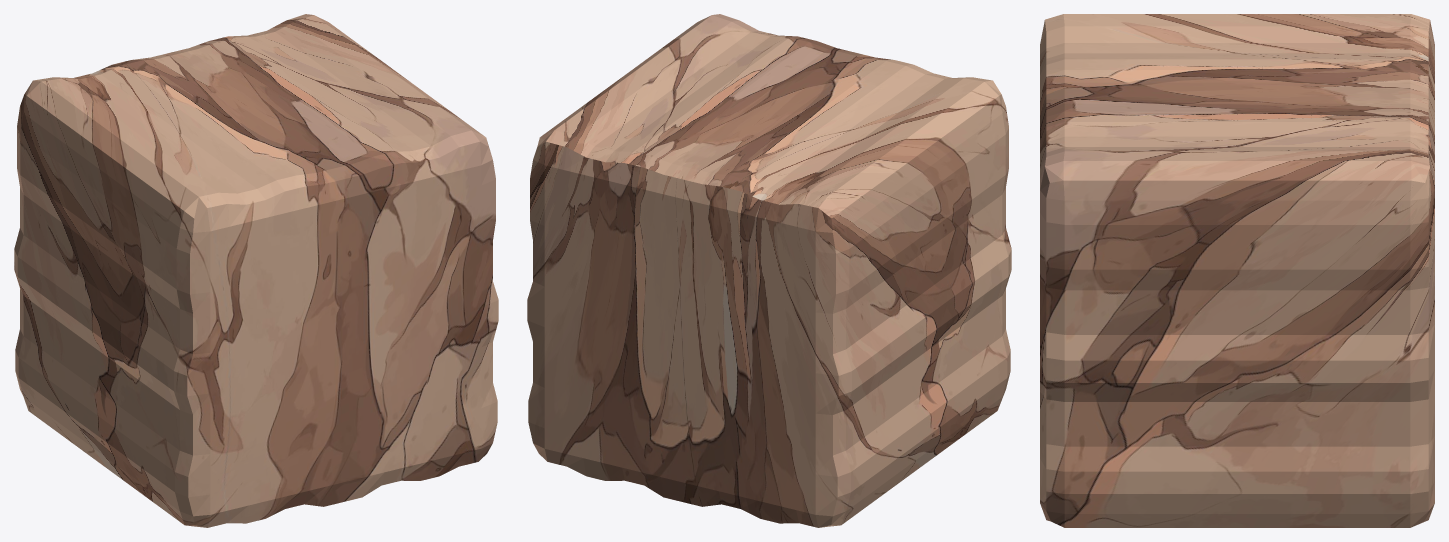
Rendered from Rock-1.obj.
The picture shows the model from 3 angles, left to right: view 1: azimuth 30°, elevation 25°; view 2: azimuth 150°, elevation 25°; view 3: azimuth 270°, elevation 25°; orthographic projection. The views are drawn at different scales.
Parts seen in each view (by area): view 1: Group59177; view 2: Group59177; view 3: Group59177.
Boxes of the visible parts, bbox=[...] form: Group59177: bbox=[14, 14, 498, 527]; Group59177: bbox=[527, 14, 1011, 527]; Group59177: bbox=[1040, 14, 1434, 527].
Size of the model in its own units: 0.4155 by 0.4173 by 0.4.
